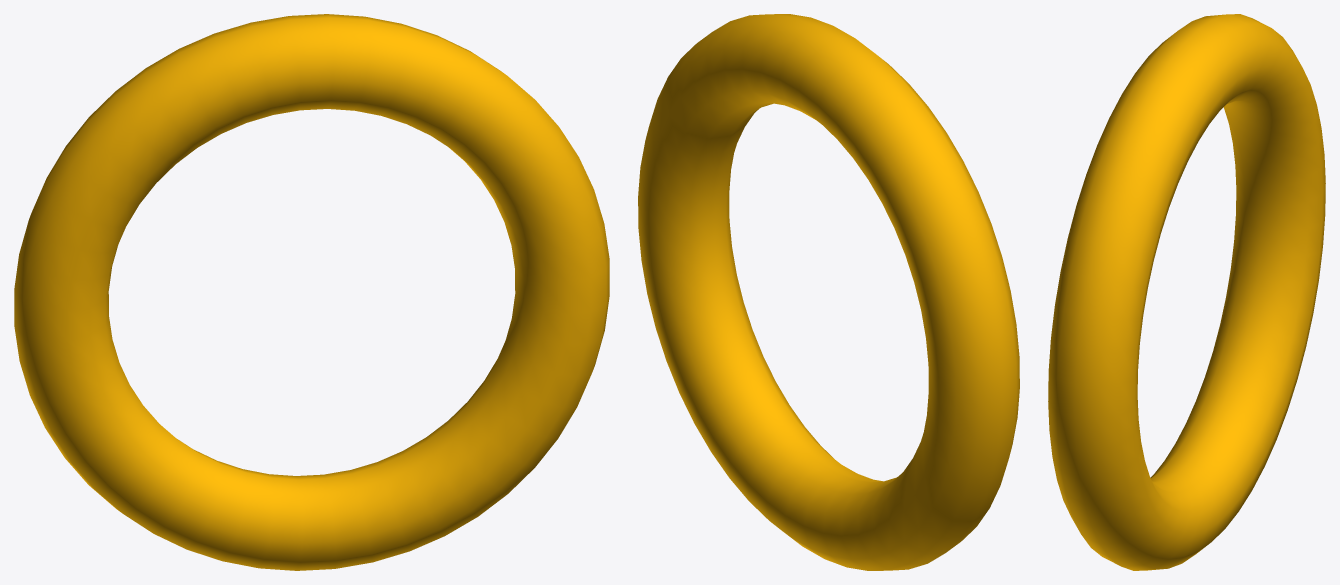
3 renders of one model, left to right at view 1: azimuth 30°, elevation 25°; view 2: azimuth 150°, elevation 25°; view 3: azimuth 270°, elevation 25°, orthographic. The views are drawn at different scales.
Parts seen in each view (by area): view 1: Torus.001; view 2: Torus.001; view 3: Torus.001.
Part boxes in pixels (x1=…): Torus.001: x1=14, y1=14, x2=609, y2=570; Torus.001: x1=638, y1=14, x2=1019, y2=570; Torus.001: x1=1048, y1=14, x2=1325, y2=570.
Size of the model in its own units: 0.4655 by 0.5 by 0.2453.
